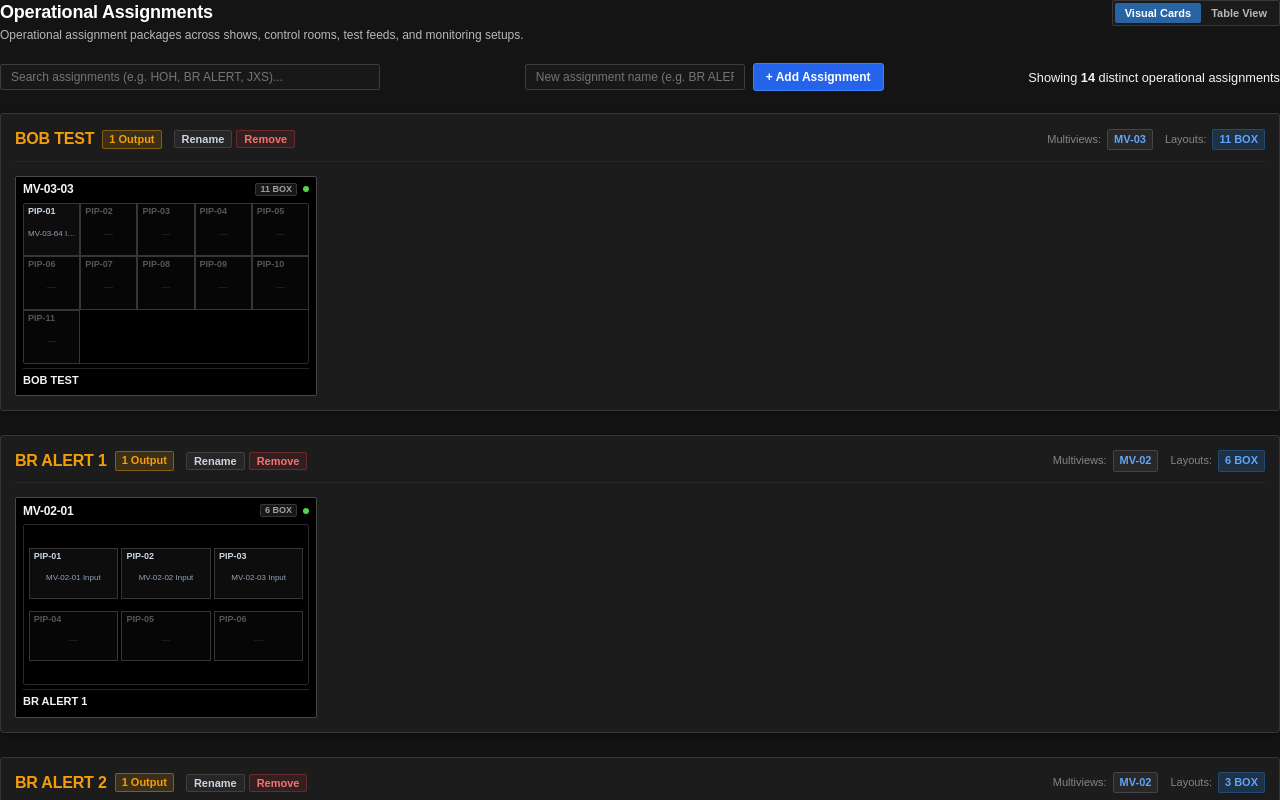
it: ProductionsPage & OutputDetailModal Production Assignment Dropdown › rejects duplicate Production Assignment names (case-insensitive and trimmed)
Step 1. Type "  hoh-wkb-01  " into the field with test id "new-assignment-input" → [635, 77], box [525,64,745,90]
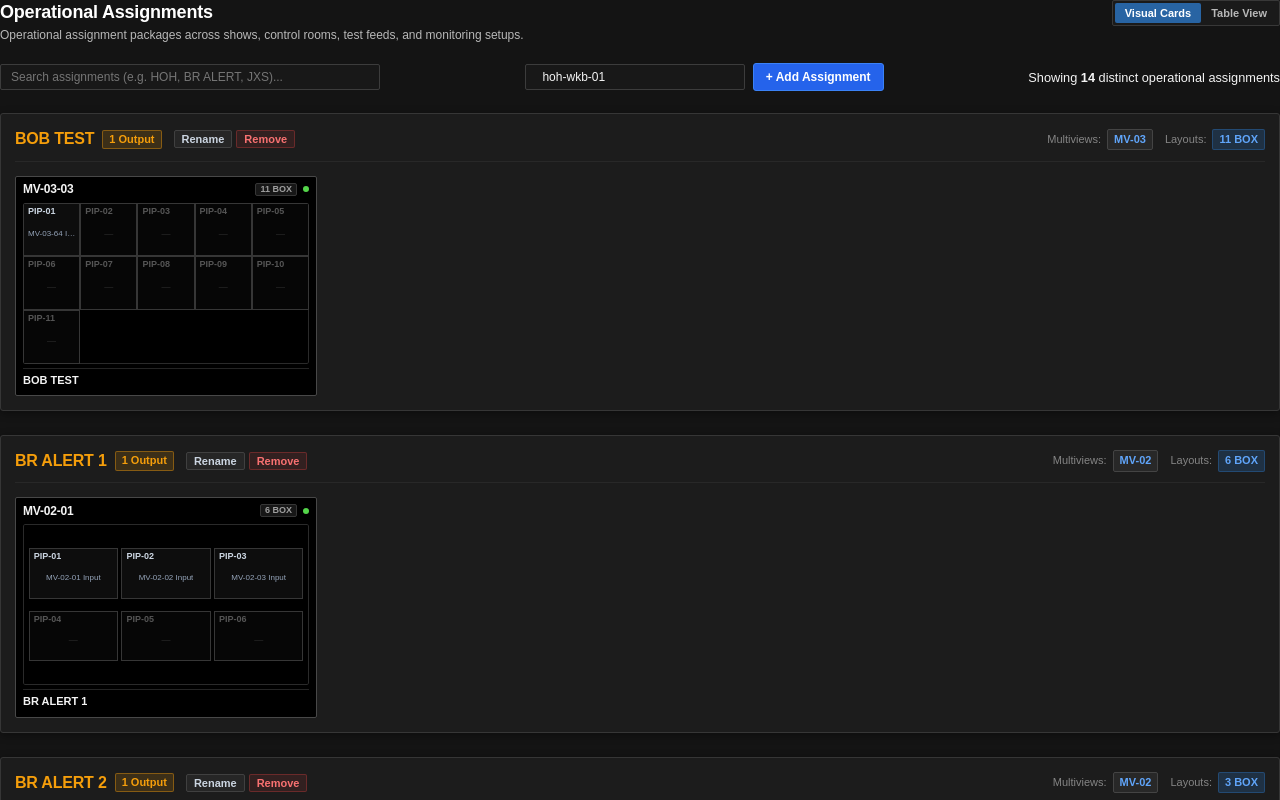
Step 2. Click the button with test id "add-assignment-btn" → [818, 77], box [753,63,884,91]
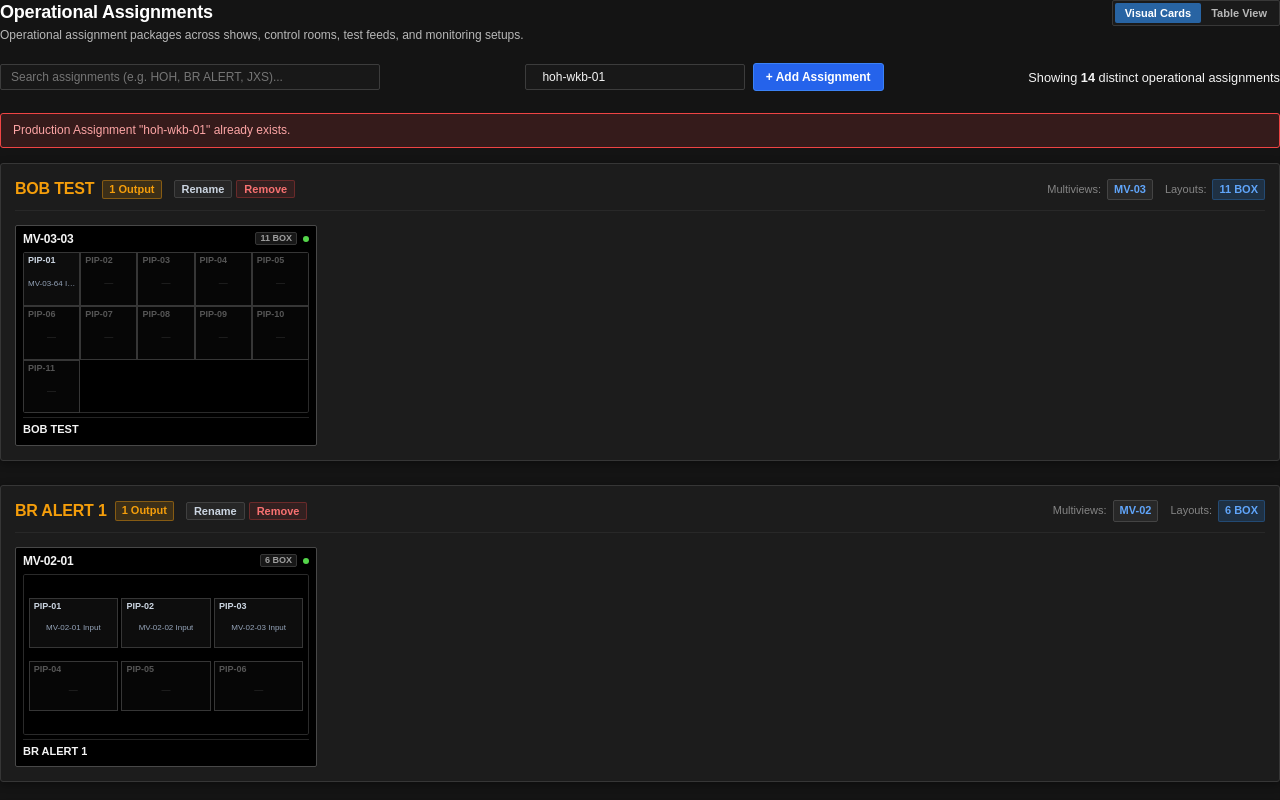
Expected: the message with test id "add-assignment-error" shows "already exists", [13,123,290,137]
